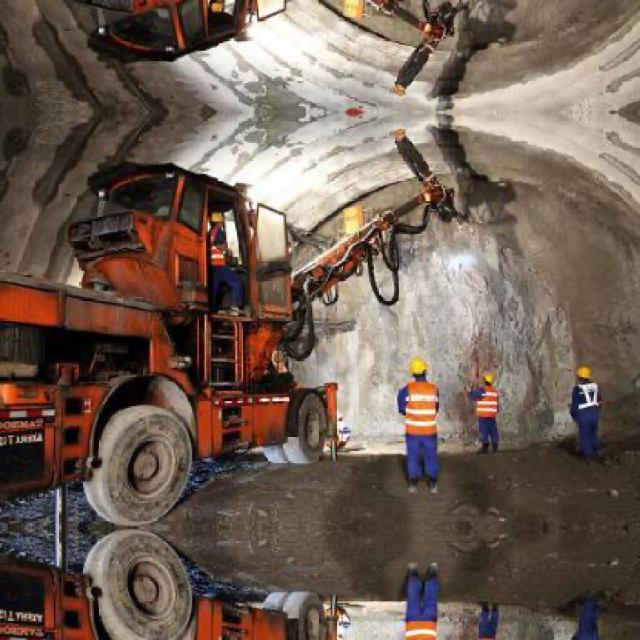con casco: (564, 354, 614, 408), (406, 354, 438, 384), (484, 364, 510, 393)
